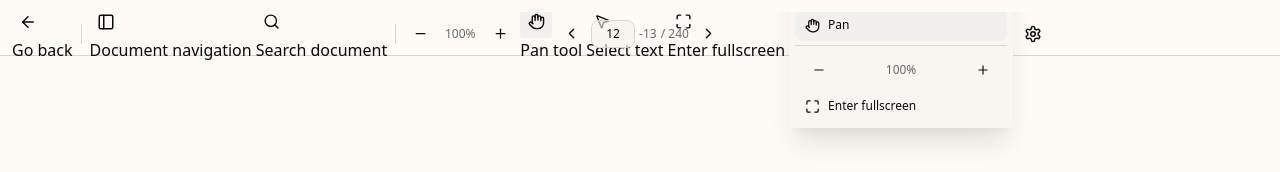
Scenario: PdfReaderToolbar › shows the current spread and commits a clamped page number
Replace the text in the number field named "Current page" with "999" at (613, 34), box [591,20,635,48]
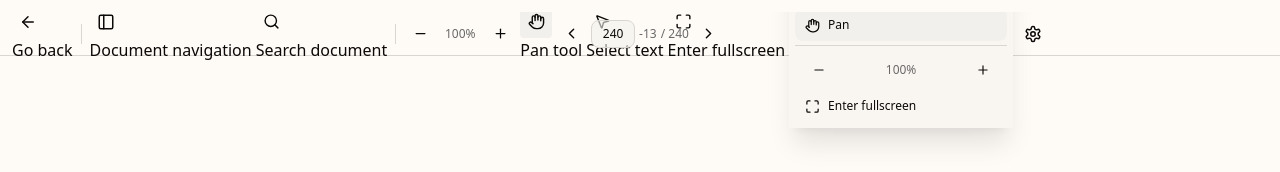
Result: the number field named "Current page" holds "240" at [591,20,635,48]
